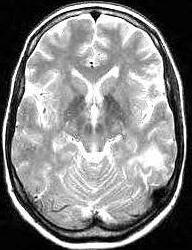Normal_Brain: (1, 1, 192, 250)
